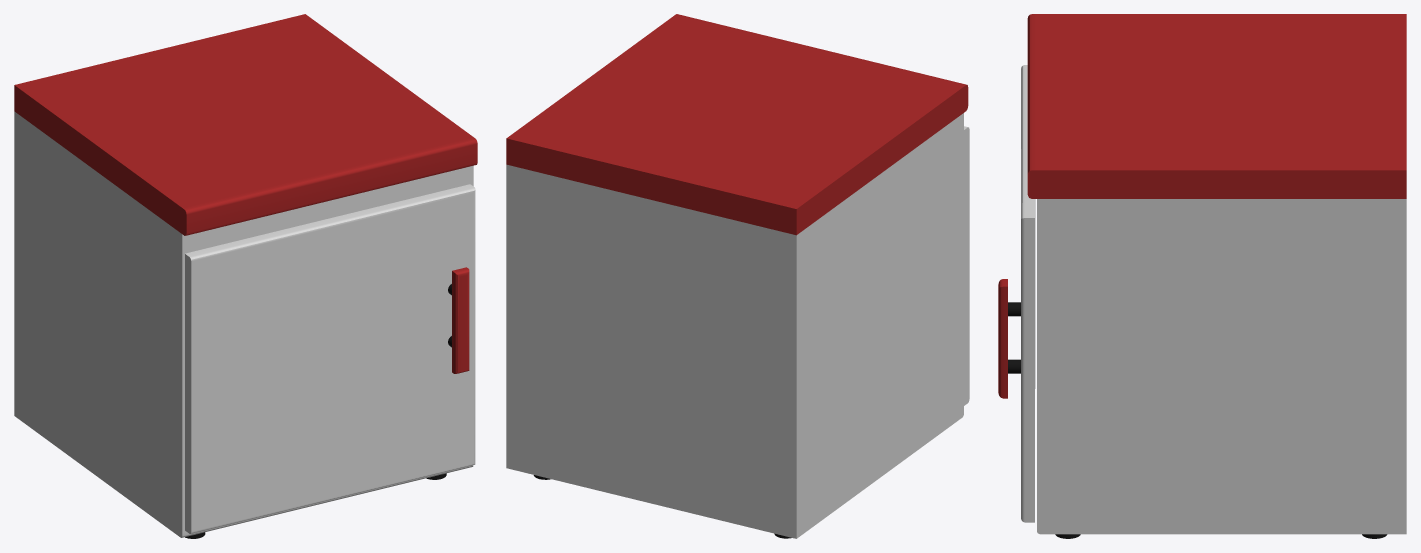
Rendered from cupboard.fbx.
The picture shows the model from 3 angles, left to right: view 1: azimuth 30°, elevation 25°; view 2: azimuth 150°, elevation 25°; view 3: azimuth 270°, elevation 25°; orthographic projection. The views are drawn at different scales.
Visible parts, largest first — view 1: pCube21, cupboard_door; view 2: pCube21, cupboard_door; view 3: pCube21, cupboard_door.
Part boxes in pixels (left/top/right/bottom): pCube21: left=14, top=14, right=477, bottom=537; cupboard_door: left=185, top=184, right=475, bottom=533; pCube21: left=506, top=14, right=968, bottom=538; cupboard_door: left=964, top=126, right=969, bottom=405; pCube21: left=1027, top=14, right=1406, bottom=534; cupboard_door: left=998, top=65, right=1035, bottom=522.
Bounding box in the file's own units: 3 × 3.37 × 3.31.
